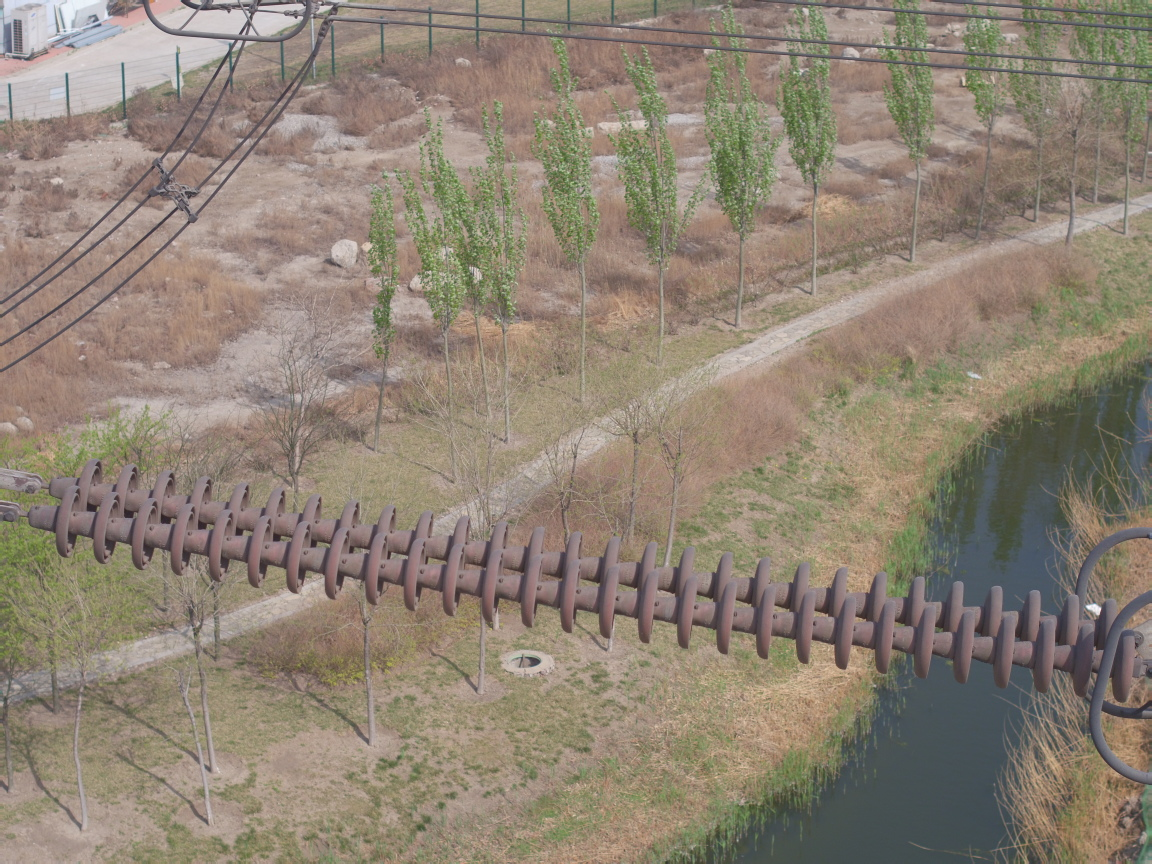insulator: (1, 452, 1152, 706)
